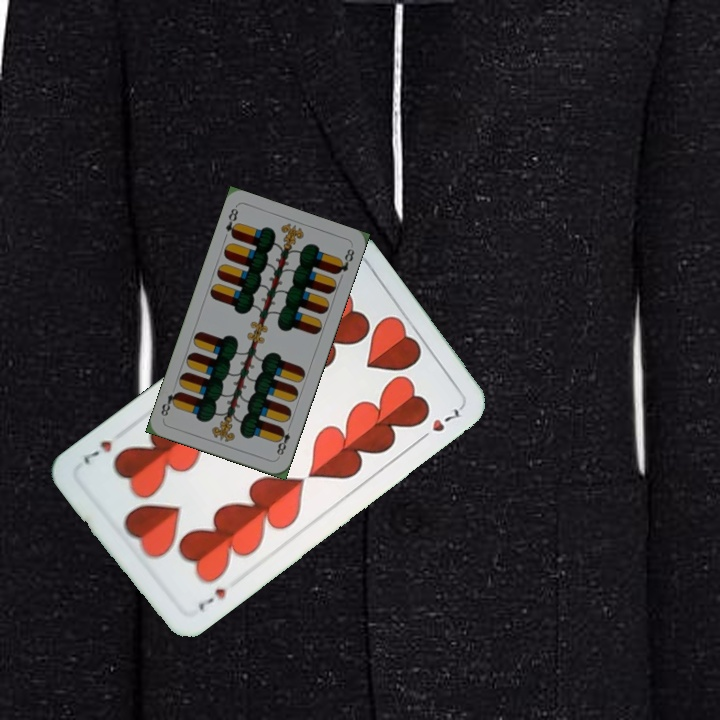E8: (221, 204, 242, 241), (272, 424, 293, 460)
H7: (194, 583, 229, 614)
